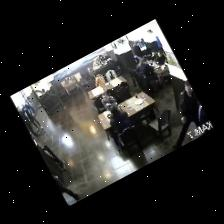person: (172, 81, 199, 149), (16, 107, 38, 137), (52, 176, 79, 200), (109, 106, 131, 134), (21, 104, 42, 130), (139, 58, 157, 80), (101, 93, 117, 111), (95, 75, 105, 87), (155, 52, 164, 65), (151, 50, 157, 60)
